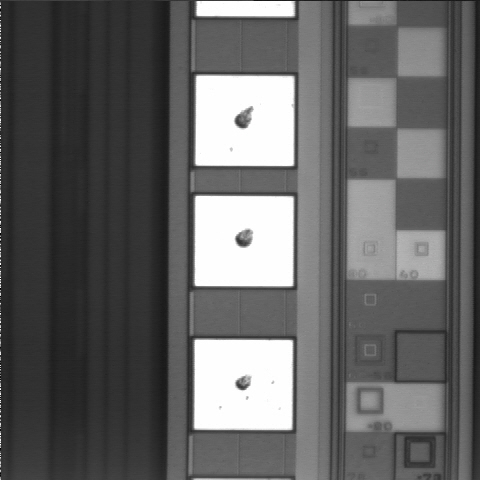pad: (195, 76, 294, 166), (195, 196, 294, 286), (194, 340, 293, 430)
